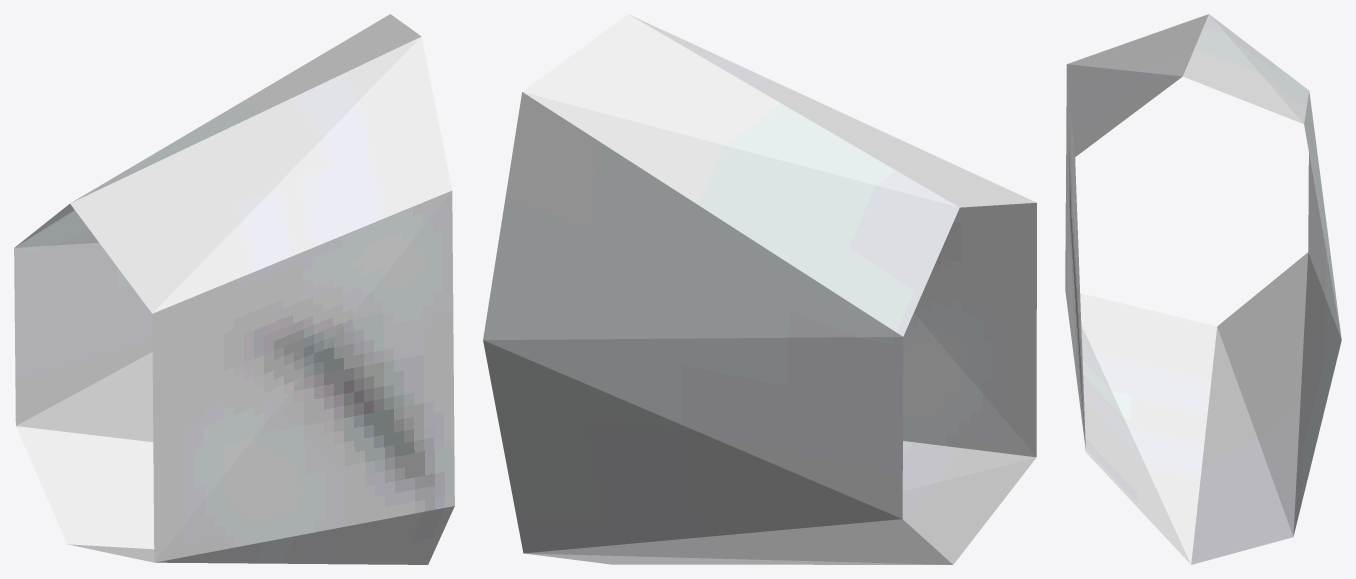
The picture shows the model from 3 angles, left to right: view 1: azimuth 30°, elevation 25°; view 2: azimuth 150°, elevation 25°; view 3: azimuth 270°, elevation 25°; orthographic projection. The views are drawn at different scales.
Parts seen in each view (by area): view 1: mesh_406B02CB9C391C05; view 2: mesh_406B02CB9C391C05; view 3: mesh_406B02CB9C391C05.
Boxes of the visible parts, bbox=[...] form: mesh_406B02CB9C391C05: bbox=[14, 14, 454, 564]; mesh_406B02CB9C391C05: bbox=[483, 14, 1036, 564]; mesh_406B02CB9C391C05: bbox=[1065, 14, 1341, 564].
Size of the model in its own units: 1.12 by 1.47 by 0.7625.
